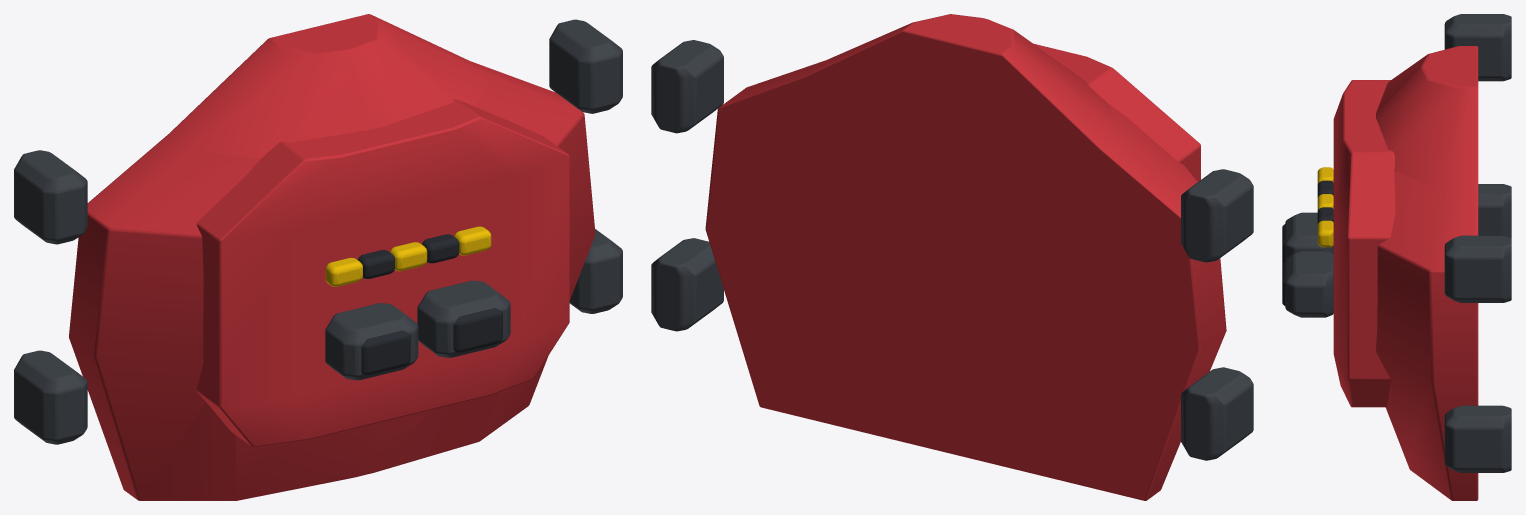
The model's file is ShoulderBack_Set05_Afterburn.fbx.
3 views of the same model, side by side, from view 1: azimuth 30°, elevation 25°; view 2: azimuth 150°, elevation 25°; view 3: azimuth 270°, elevation 25° (orthographic). The views are drawn at different scales.
Parts seen in each view (by area): view 1: ShoulderBack_Set05_Afterburn; view 2: ShoulderBack_Set05_Afterburn; view 3: ShoulderBack_Set05_Afterburn.
Part boxes in pixels (left/top/right/bottom): ShoulderBack_Set05_Afterburn: left=14, top=14, right=622, bottom=500; ShoulderBack_Set05_Afterburn: left=651, top=14, right=1253, bottom=500; ShoulderBack_Set05_Afterburn: left=1282, top=14, right=1511, bottom=500.
Size of the model in its own units: 0.51 by 0.35 by 0.2057.
